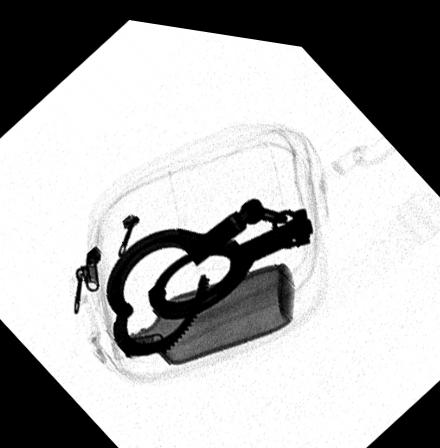HandCuffs: (105, 190, 314, 352)
